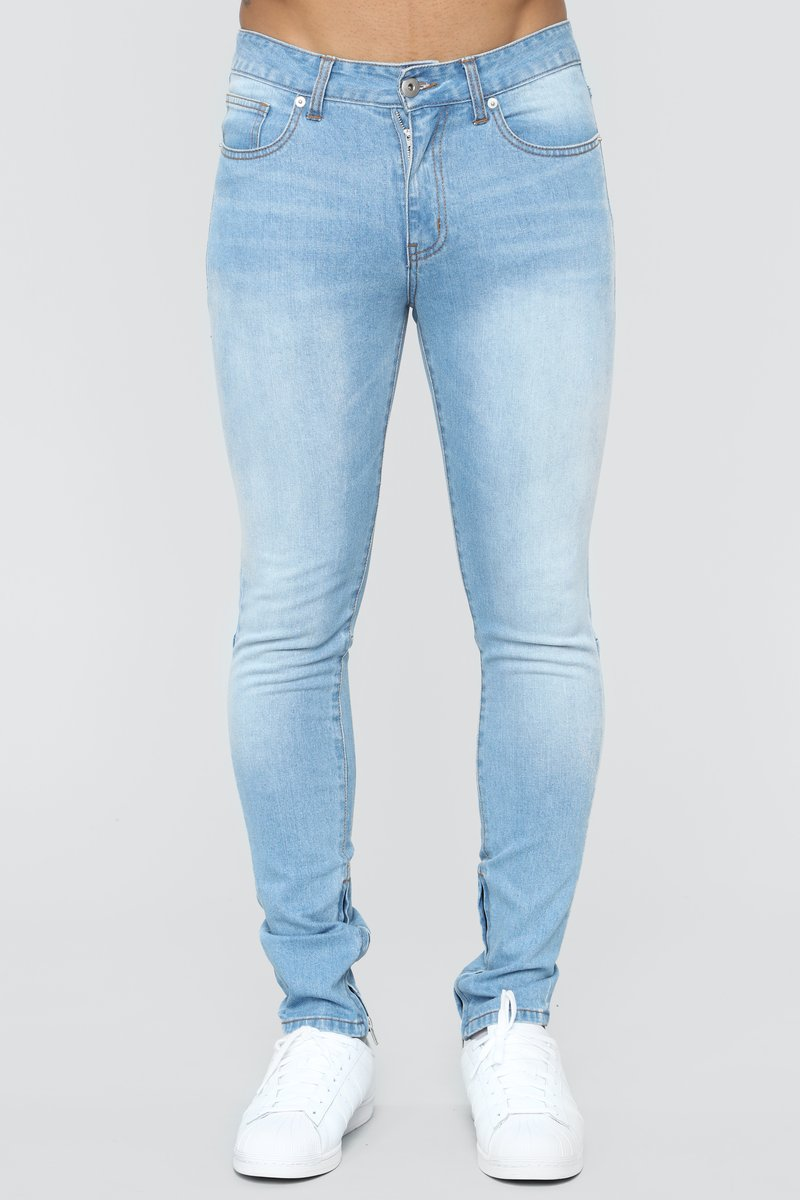Jeans: (199, 63, 631, 1035)
